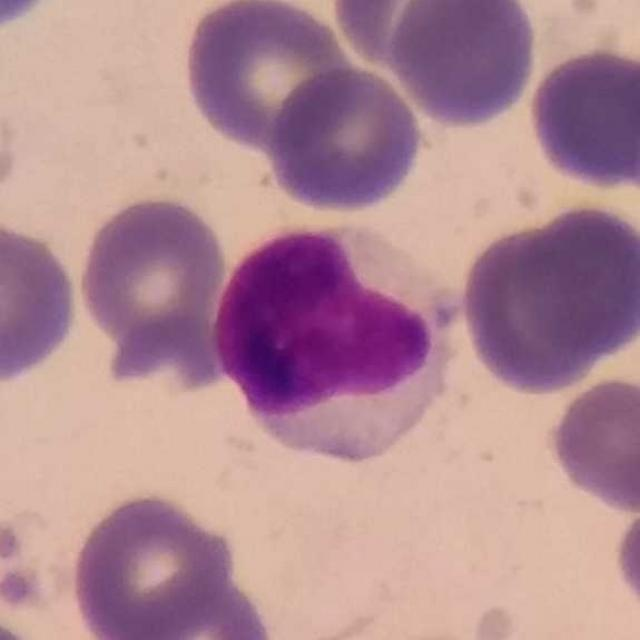Lymphocyte: (207, 217, 453, 469)
Platelets: (0, 562, 46, 613)
RBC: (455, 204, 640, 395), (74, 188, 232, 374), (177, 0, 358, 152), (67, 487, 241, 639), (262, 61, 428, 216), (388, 0, 540, 131), (523, 43, 640, 196), (0, 213, 83, 388), (544, 374, 640, 515), (88, 571, 284, 639), (327, 0, 500, 72), (610, 488, 640, 628), (0, 0, 62, 36)
